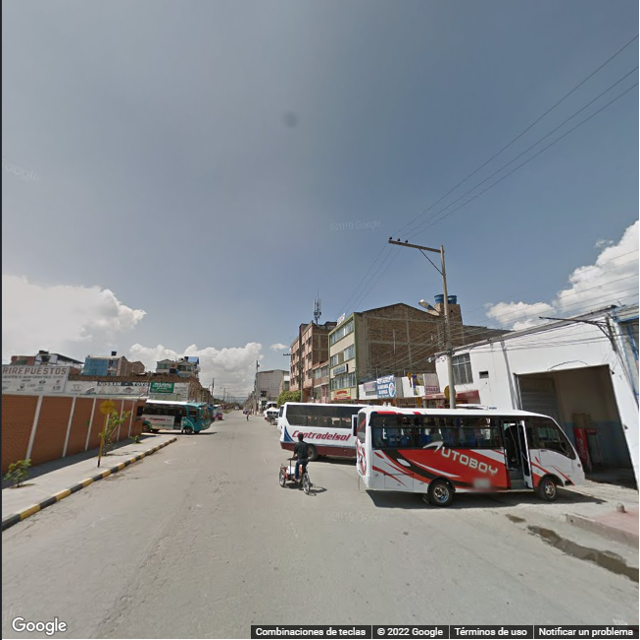D00: (197, 493, 219, 537)
D20: (90, 549, 188, 635)
